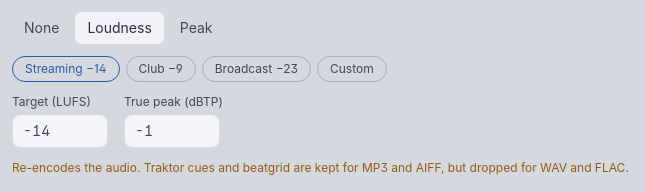
Test: NormalizeControls number input › restores the committed value when the field is left empty
Clear the number field with test id "normalize-target-lufs" at (60, 131), box [12,114,108,148]
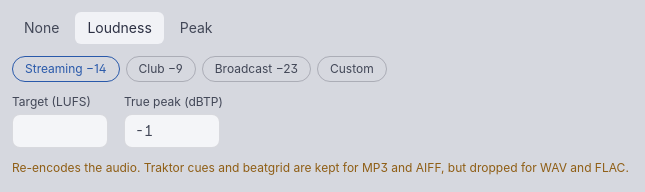
Leave the number field with test id "normalize-target-lufs", box [12,114,108,148]
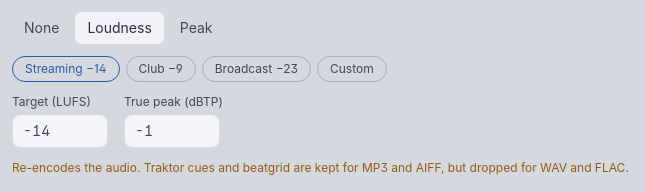
Expected: the number field with test id "normalize-target-lufs" holds "-14", [12,114,108,148]
